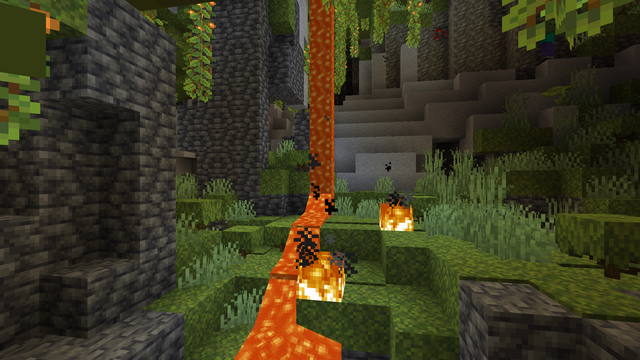zombies: (537, 18, 557, 61)
